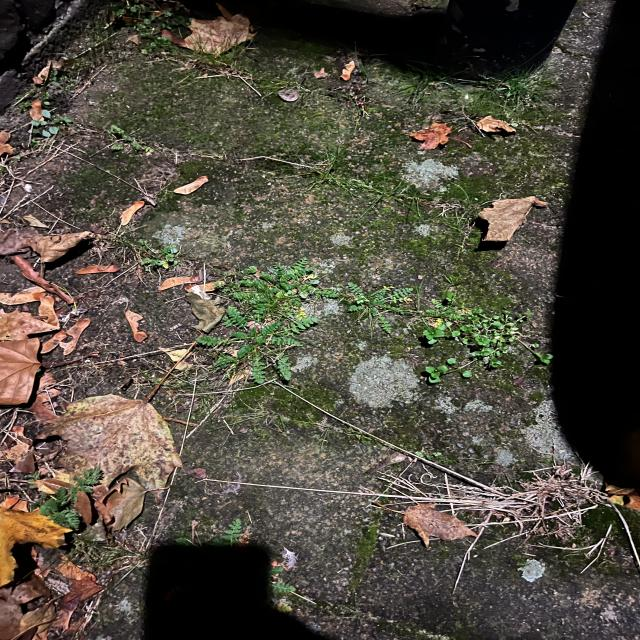leaves: (7, 225, 187, 638), (415, 112, 519, 151), (402, 499, 473, 546), (488, 194, 532, 238), (192, 19, 242, 55)
pavement: (361, 556, 640, 640), (221, 418, 371, 530), (115, 76, 345, 143), (250, 168, 354, 254)
weed: (205, 254, 548, 390)
